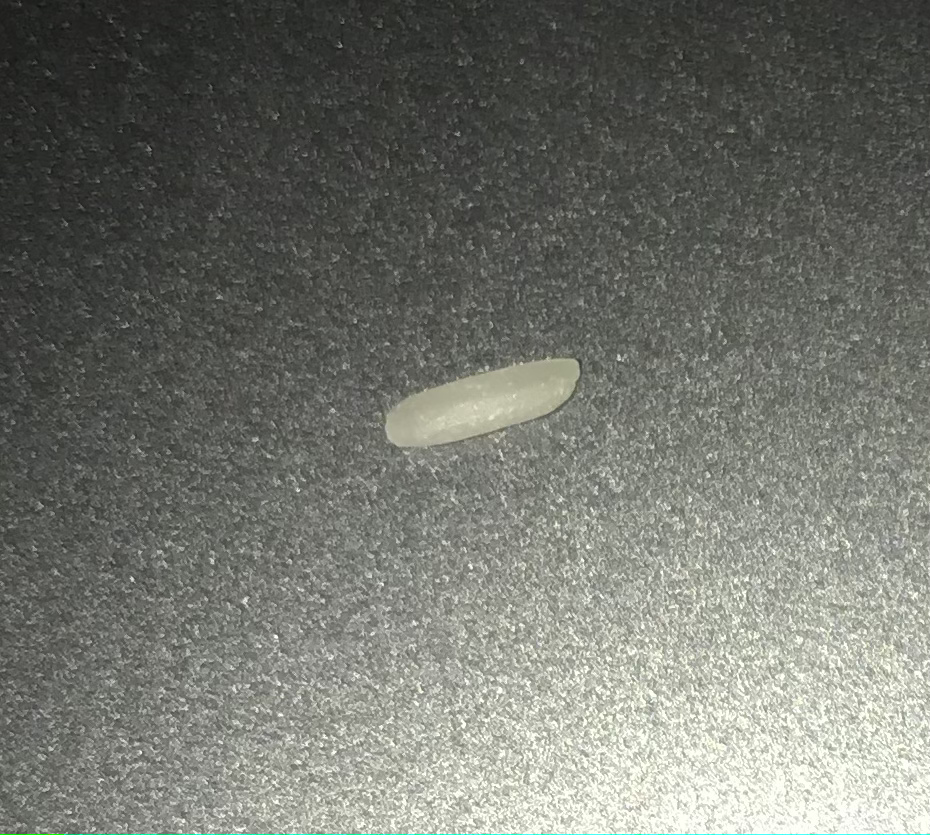Gao Tam Thom: (375, 333, 594, 473)
